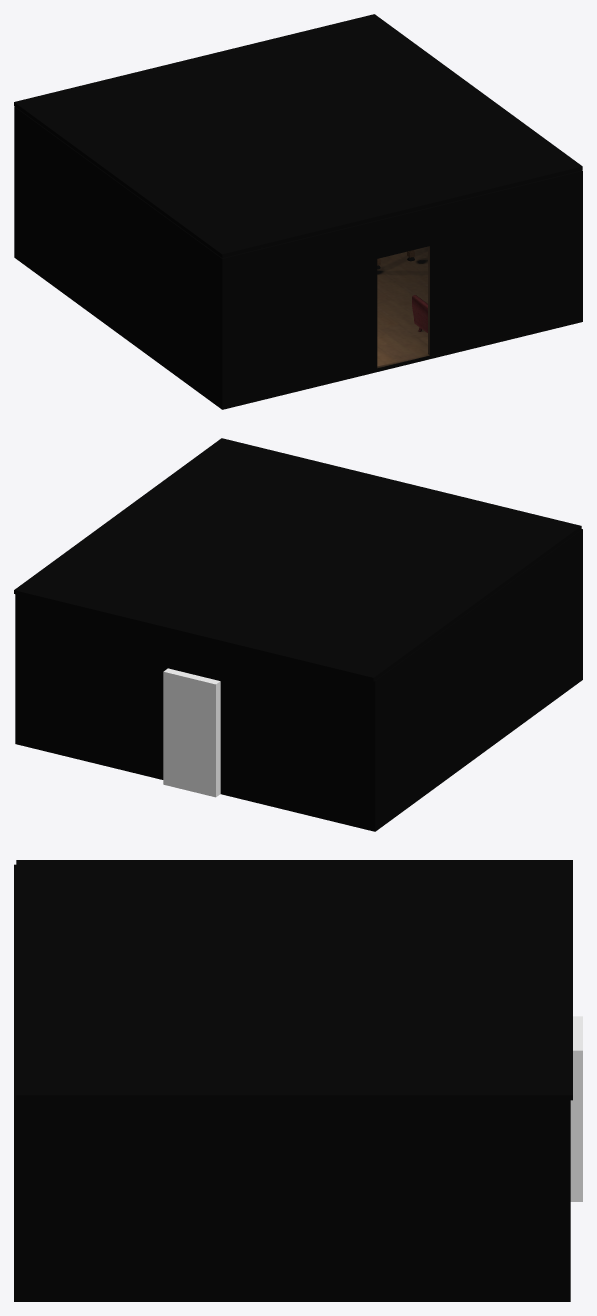
File: room_billard_engine.obj
The picture shows the model from 3 angles, top to bottom: view 1: azimuth 30°, elevation 25°; view 2: azimuth 150°, elevation 25°; view 3: azimuth 270°, elevation 25°; orthographic projection. The views are drawn at different scales.
Visible parts, largest first — view 1: Rectangle050, celling_billard, Rectangle051; view 2: Rectangle050, celling_billard, PH_DOOR_billard_5E, Rectangle051; view 3: celling_billard, Rectangle050, Rectangle051, PH_DOOR_billard_5E.
Part boxes in pixels (x1,y1,x2,y2): Rectangle050: (14, 106, 582, 409); celling_billard: (14, 14, 582, 257); Rectangle051: (14, 246, 582, 409); Rectangle050: (15, 529, 582, 831); celling_billard: (14, 438, 581, 681); PH_DOOR_billard_5E: (163, 668, 220, 797); Rectangle051: (15, 677, 582, 830); celling_billard: (16, 860, 572, 1100); Rectangle050: (14, 864, 570, 1301); Rectangle051: (14, 1297, 570, 1301); PH_DOOR_billard_5E: (570, 1016, 582, 1201).
Size of the model in its own units: 100 by 41.08 by 102.
